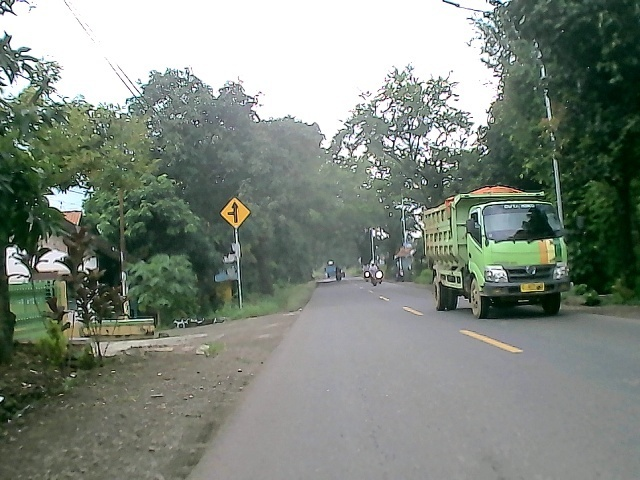Simpang kiri dengan prioritas: (218, 196, 251, 231)
